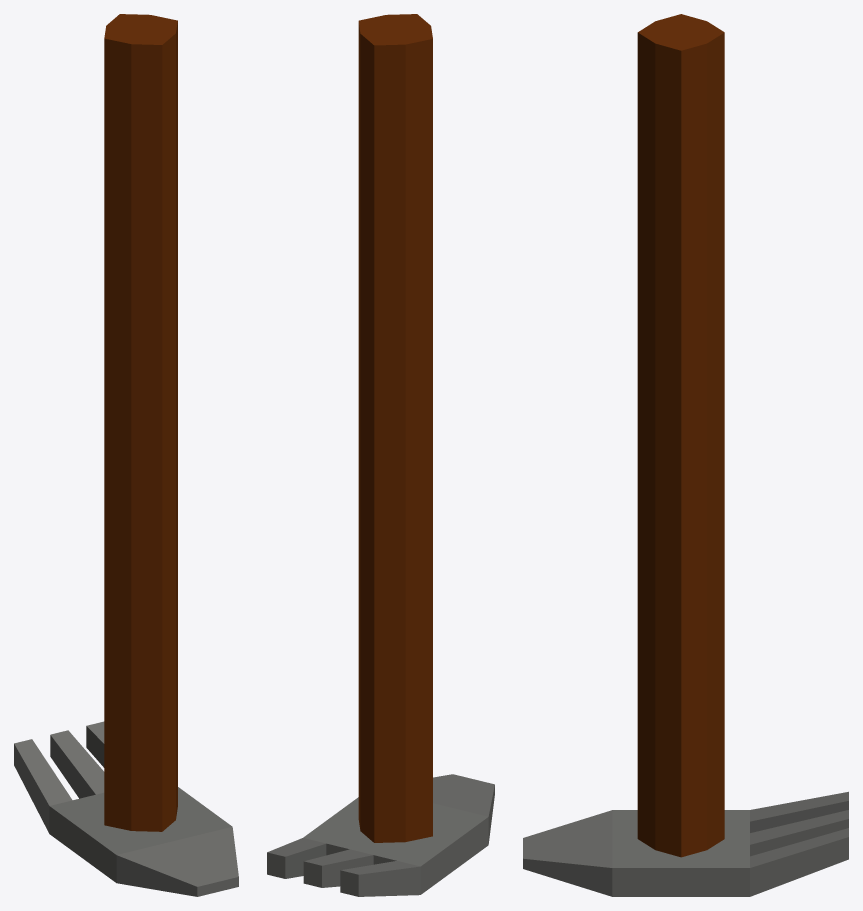
File: PrototypeHoe.fbx
The picture shows the model from 3 angles, left to right: view 1: azimuth 30°, elevation 25°; view 2: azimuth 150°, elevation 25°; view 3: azimuth 270°, elevation 25°; orthographic projection. The views are drawn at different scales.
Parts seen in each view (by area): view 1: prototypeHoe; view 2: prototypeHoe; view 3: prototypeHoe.
Part boxes in pixels (x1,y1,x2,y2): prototypeHoe: [14, 14, 238, 896]; prototypeHoe: [267, 14, 494, 896]; prototypeHoe: [523, 14, 848, 896].
Size of the model in its own units: 50.9 by 341 by 121.
